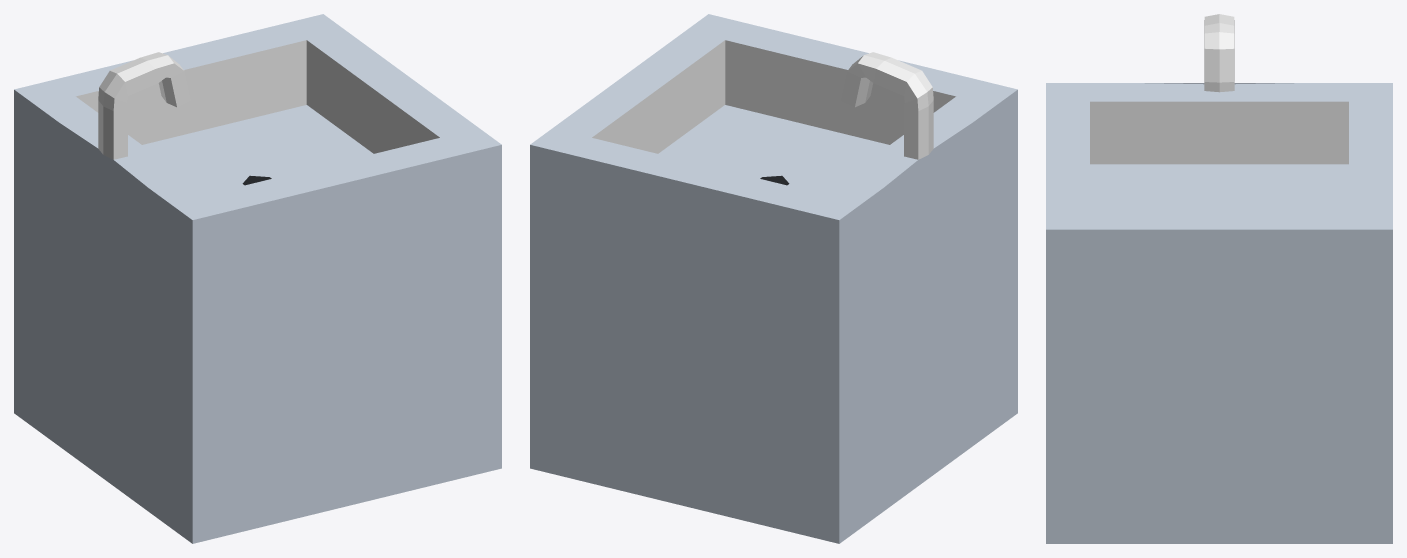
Rendered from sink.glb.
3 renders of one model, left to right at view 1: azimuth 30°, elevation 25°; view 2: azimuth 150°, elevation 25°; view 3: azimuth 270°, elevation 25°, orthographic. The views are drawn at different scales.
Visible parts, largest first — view 1: Cube; view 2: Cube; view 3: Cube.
Part boxes in pixels (box(x1,y1,x2,y2)): Cube: box(14, 14, 501, 543); Cube: box(530, 14, 1017, 543); Cube: box(1046, 14, 1392, 543).
Bounding box in the file's own units: 2 × 2.52 × 2.
Materials: 1 (1 with a texture image).
